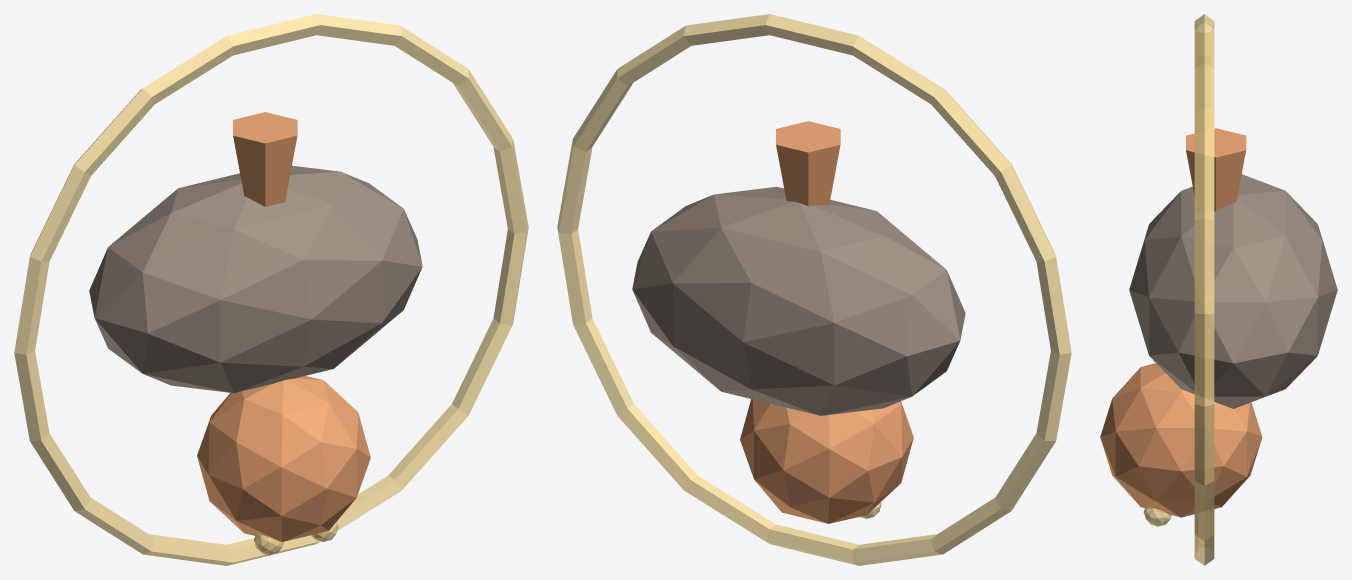
Rendered from 08_pet_companion_proc.glb.
The picture shows the model from 3 angles, left to right: view 1: azimuth 30°, elevation 25°; view 2: azimuth 150°, elevation 25°; view 3: azimuth 270°, elevation 25°; orthographic projection. The views are drawn at different scales.
Visible parts, largest first — view 1: pet_body, bonus_proc_ring, pet_head, tail_or_antenna; view 2: pet_body, bonus_proc_ring, pet_head, tail_or_antenna; view 3: pet_body, pet_head, bonus_proc_ring, tail_or_antenna, pet_eye_r.
Part boxes in pixels (x1,y1,x2,y2): pet_body: (89, 165, 422, 393); bonus_proc_ring: (14, 14, 528, 565); pet_head: (197, 376, 370, 541); tail_or_antenna: (233, 112, 297, 206); pet_body: (632, 186, 965, 415); bonus_proc_ring: (557, 14, 1071, 565); pet_head: (740, 399, 913, 523); tail_or_antenna: (776, 121, 840, 206); pet_body: (1129, 174, 1337, 408); pet_head: (1100, 363, 1262, 517); bonus_proc_ring: (1194, 14, 1214, 565); tail_or_antenna: (1186, 128, 1246, 211); pet_eye_r: (1143, 507, 1171, 526).
Size of the model in its own units: 0.956 by 0.9415 by 0.41.
